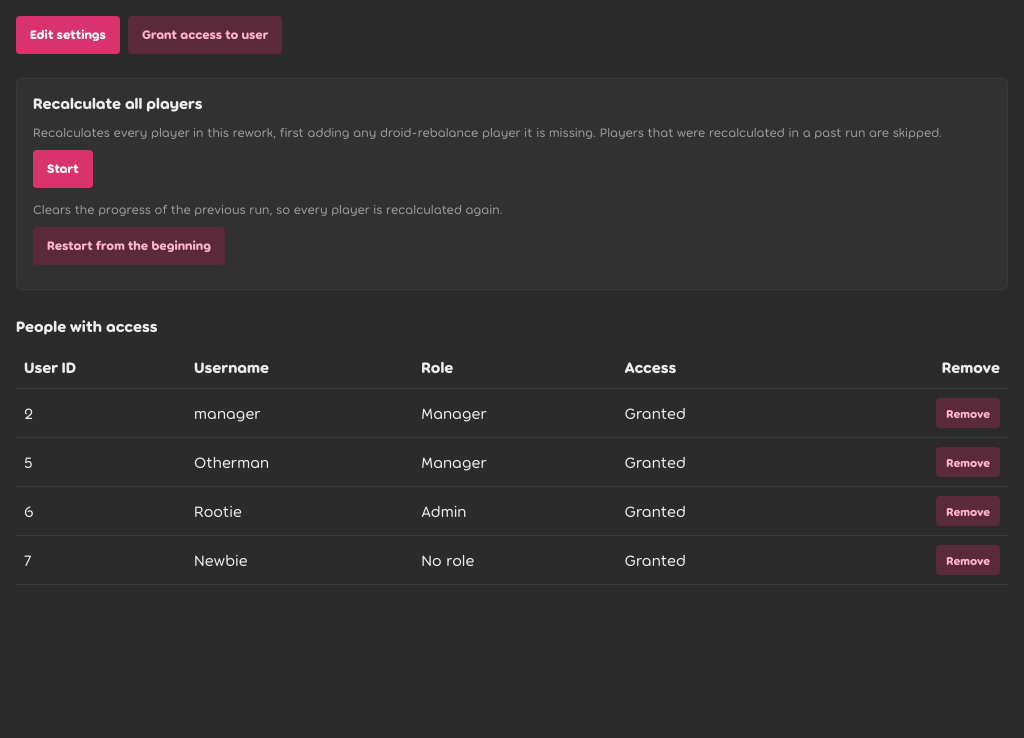
VariantAdminTab as an admin › does not offer to pin droid-rebalance, which always leads the sidebar
This screenshot has width=1024, height=738.
Click the button "Edit settings" at (68, 35), box [16, 16, 120, 54]
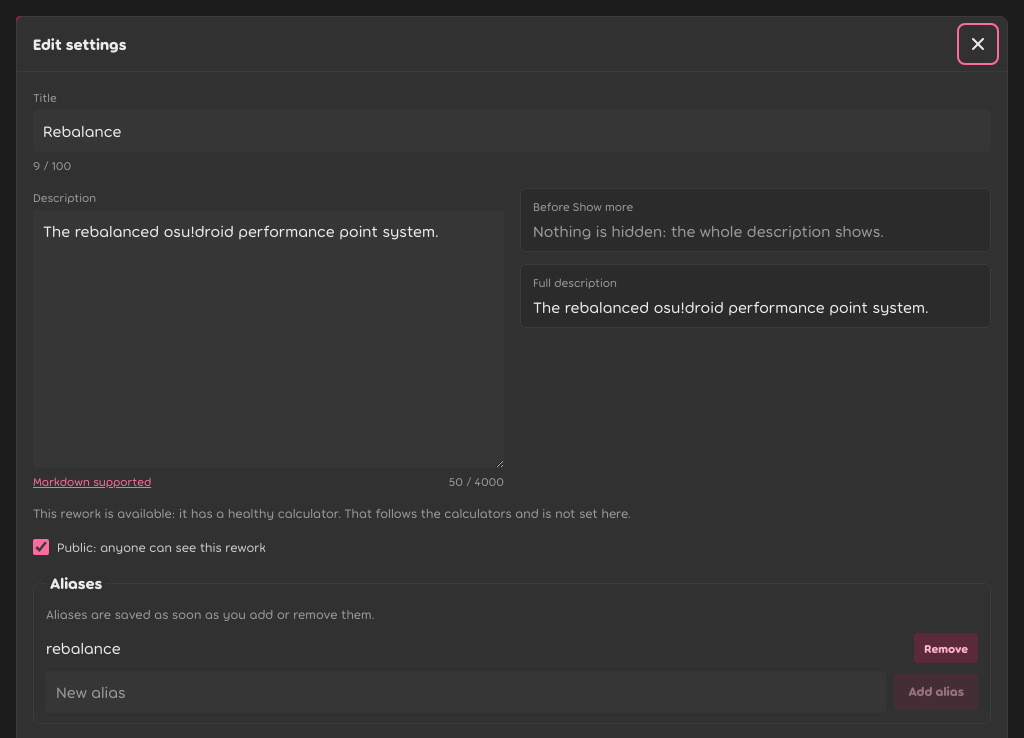
Result: the checkbox labelled "Public: anyone can see this rework" is shown at [33, 539, 49, 555]
